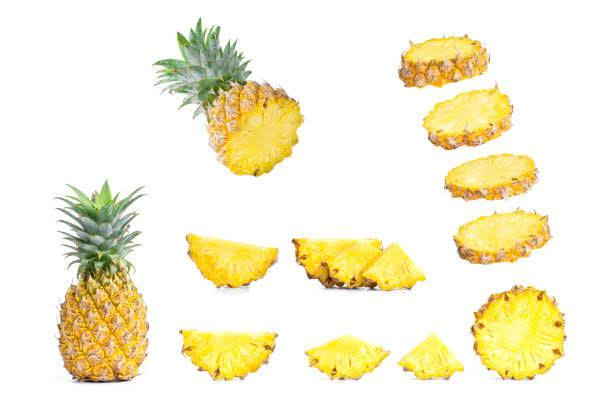pineapple: (155, 16, 302, 180), (55, 178, 152, 387), (468, 279, 573, 390), (288, 233, 434, 305), (174, 222, 283, 302), (174, 323, 282, 389), (450, 206, 552, 270), (420, 87, 517, 149), (397, 32, 492, 89), (442, 151, 544, 203), (302, 329, 389, 389), (394, 326, 474, 391)
